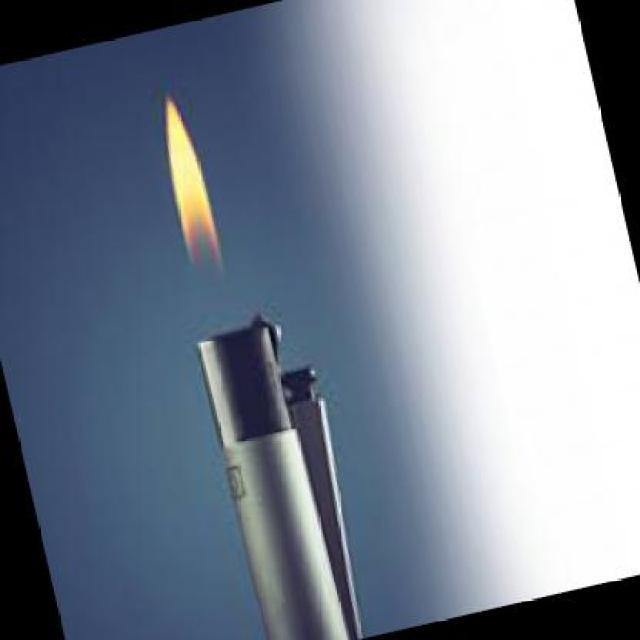Fire: (161, 88, 227, 339)
